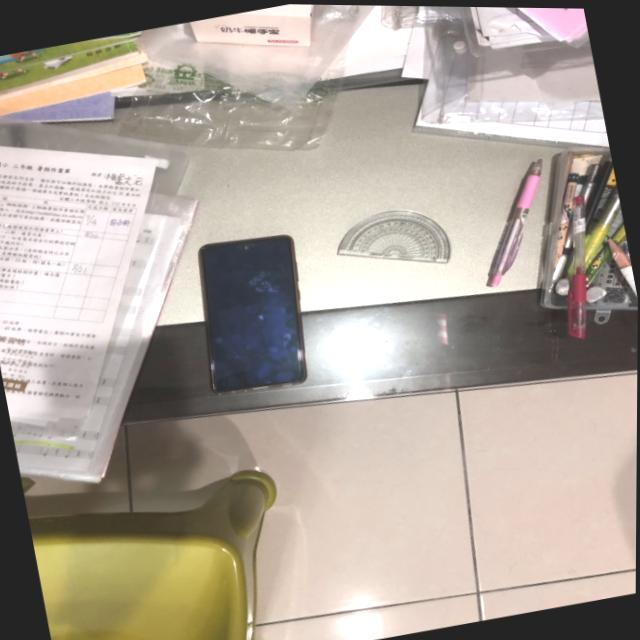Smartphone: (199, 234, 307, 392)
